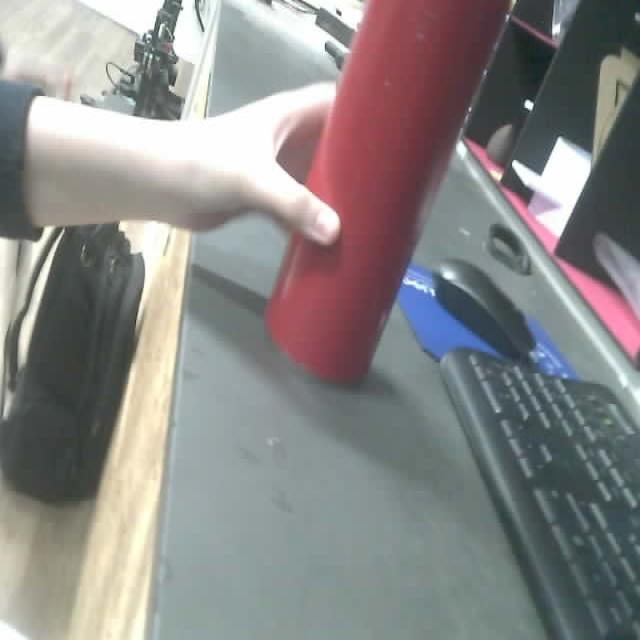water bottle: (263, 1, 515, 388)
